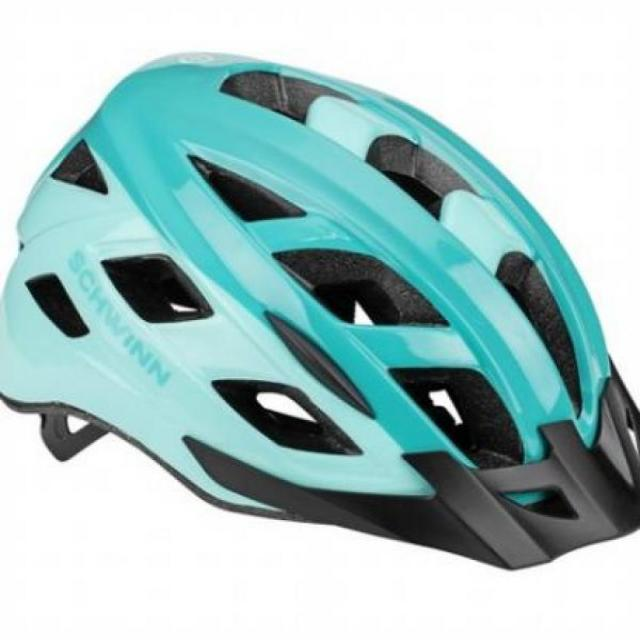Helmet: (17, 53, 634, 589)
